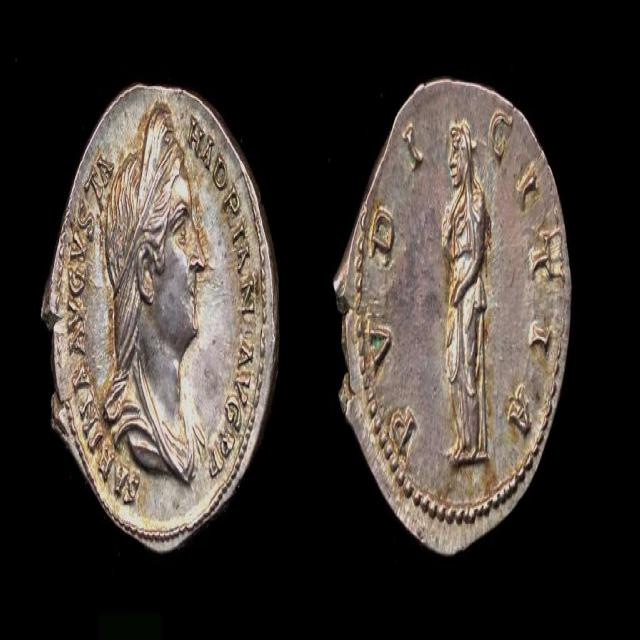Coin: (39, 76, 281, 556), (336, 80, 572, 548)
